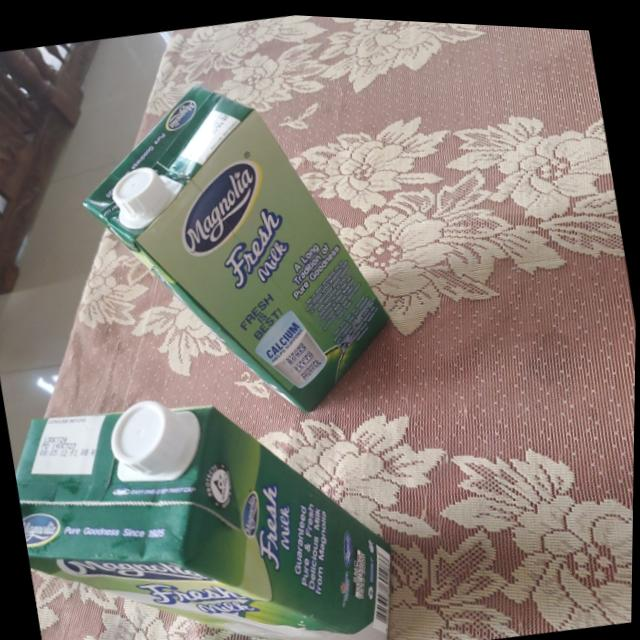milk: (67, 53, 409, 447), (5, 356, 409, 640)
